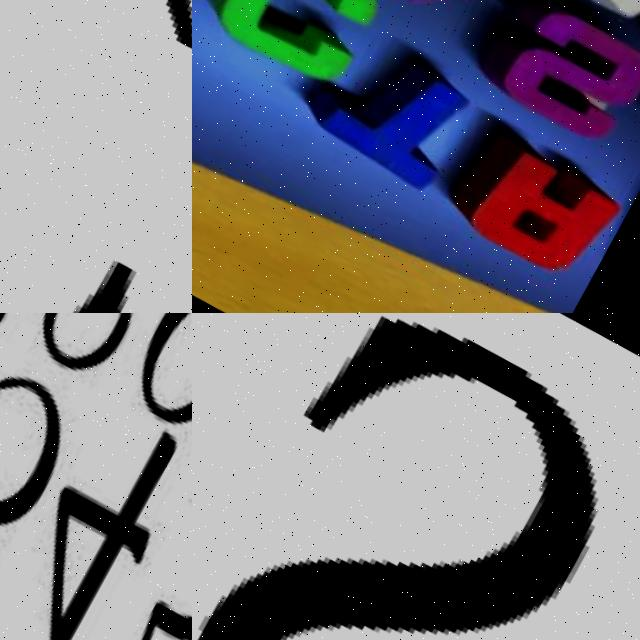3: (0, 361, 92, 628)
4: (0, 397, 192, 640)
5: (71, 473, 192, 640)
8: (8, 313, 192, 398)
A: (422, 117, 618, 294)
C: (192, 0, 399, 106)
G: (297, 0, 558, 59)
H: (500, 0, 640, 61)
S: (192, 313, 640, 640), (460, 0, 640, 162)
T: (292, 18, 496, 209)
